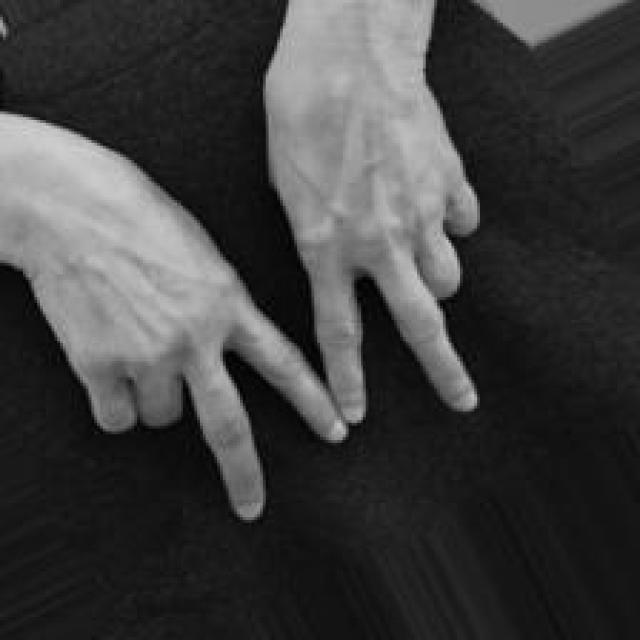M: (4, 41, 492, 524)
